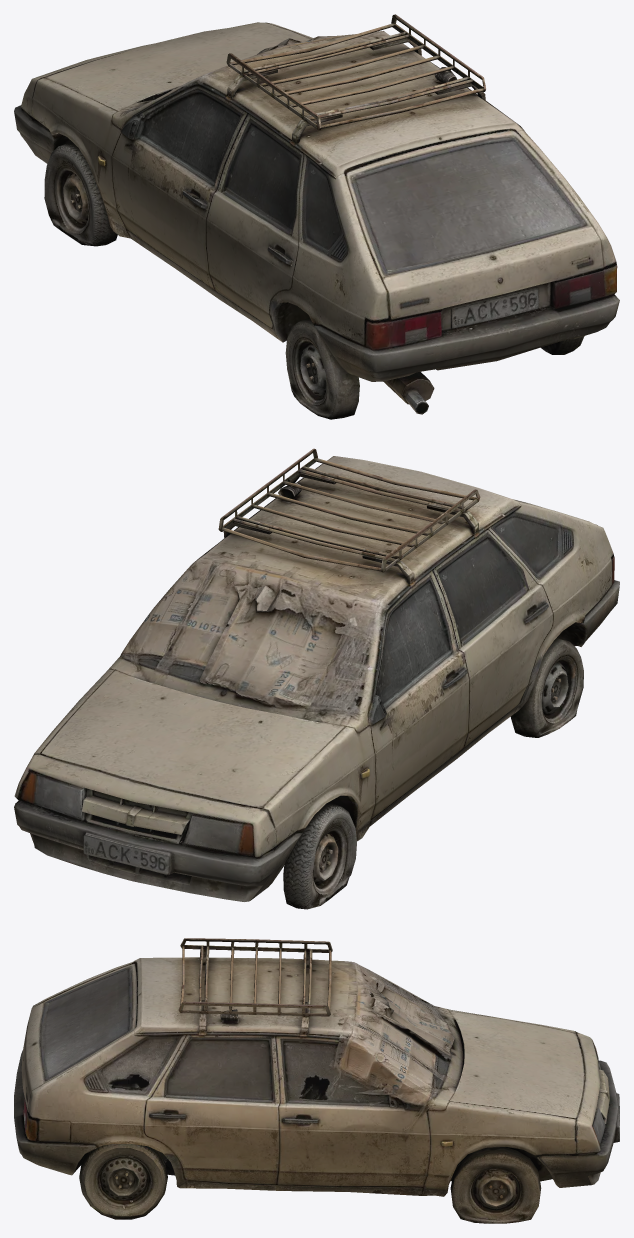
The model's file is car-transformed.glb.
3 views of the same model, one above another, from view 1: azimuth 30°, elevation 25°; view 2: azimuth 150°, elevation 25°; view 3: azimuth 270°, elevation 25° (orthographic). The views are drawn at different scales.
Visible parts, largest first — view 1: Material; view 2: Material; view 3: Material.
Part boxes in pixels (left/top/right/bottom): Material: left=14, top=14, right=619, bottom=419; Material: left=14, top=448, right=619, bottom=909; Material: left=14, top=938, right=619, bottom=1223.
Bounding box in the file's own units: 92.03 × 80.8 × 221.
1 material, 1 textured.
